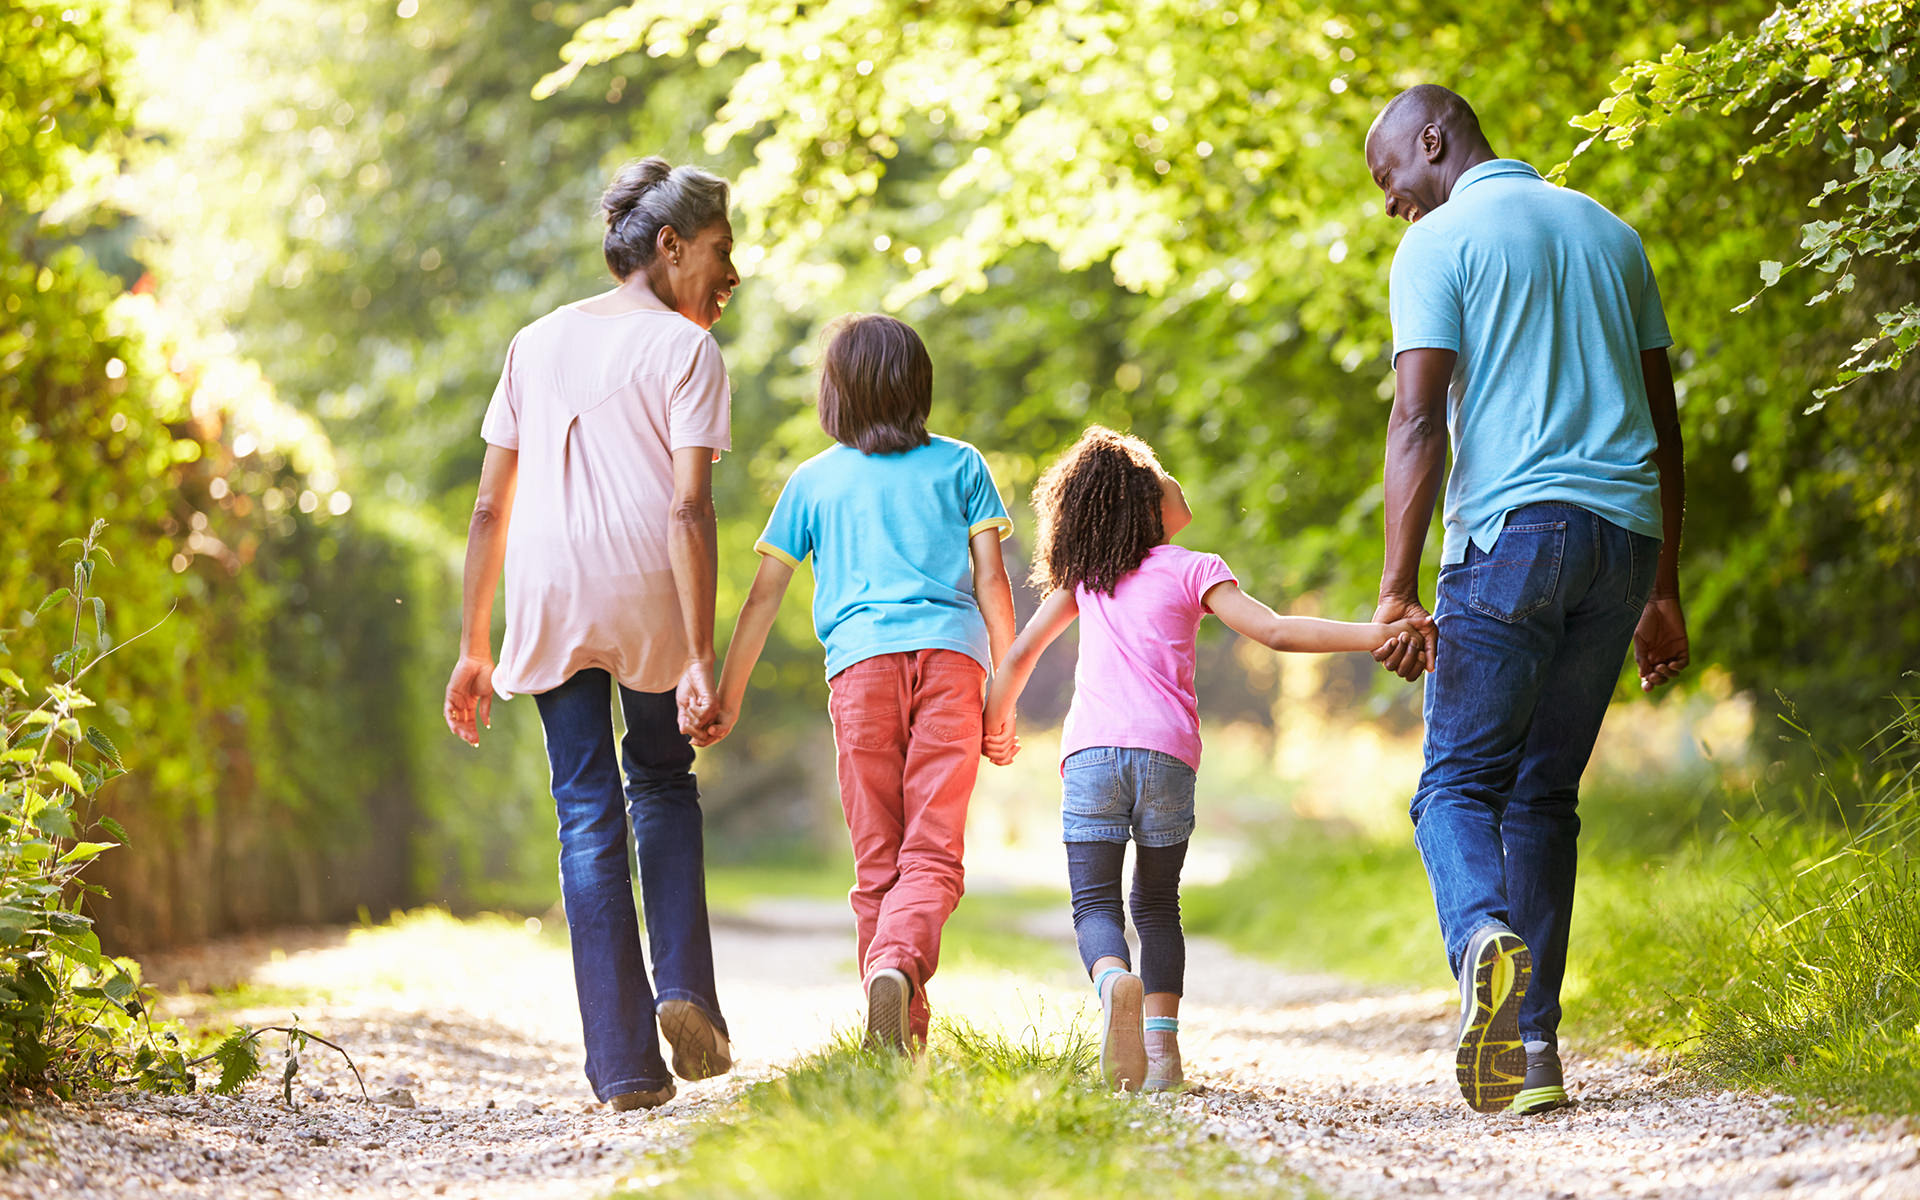Person: (1348, 55, 1717, 1096), (420, 141, 765, 1117), (979, 407, 1417, 1110), (710, 300, 1038, 1110)
